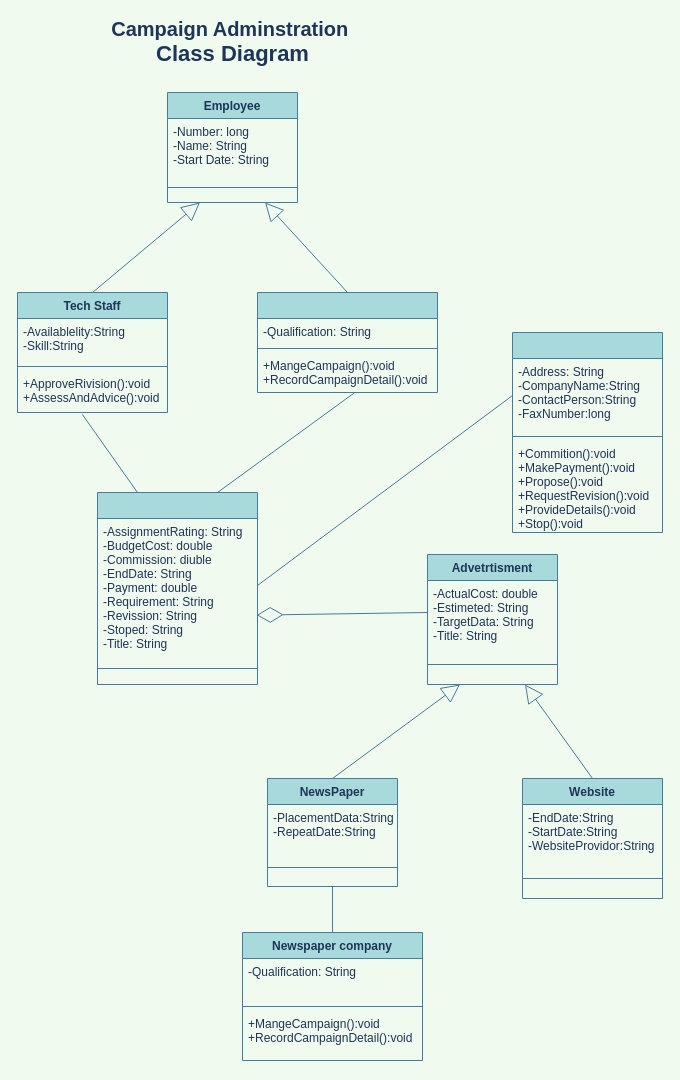
Image size: 680x1080. Some labels were removed from this diagram. The box of each missing label's shape, as (x1, y1, x2, y2) in pixels:
Admin Staff: (256, 292, 438, 392)
Campaign: (96, 492, 258, 684)
Customer: (512, 332, 662, 532)
